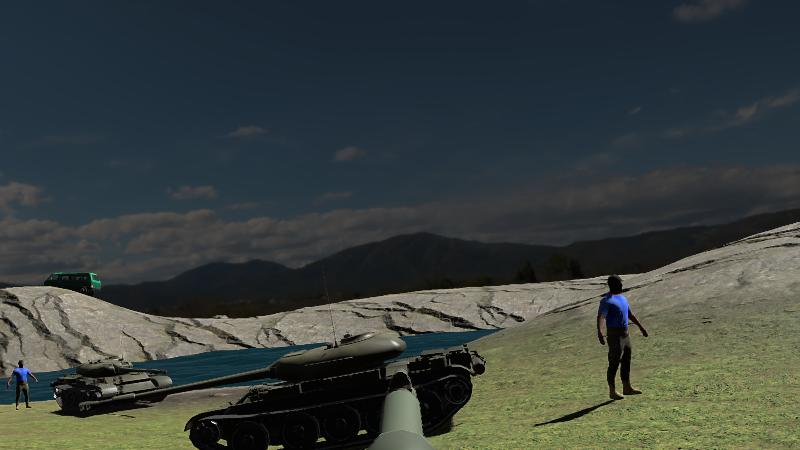Human: (597, 274, 648, 401), (8, 359, 37, 411)
Tank: (76, 334, 480, 450), (51, 356, 173, 416)
